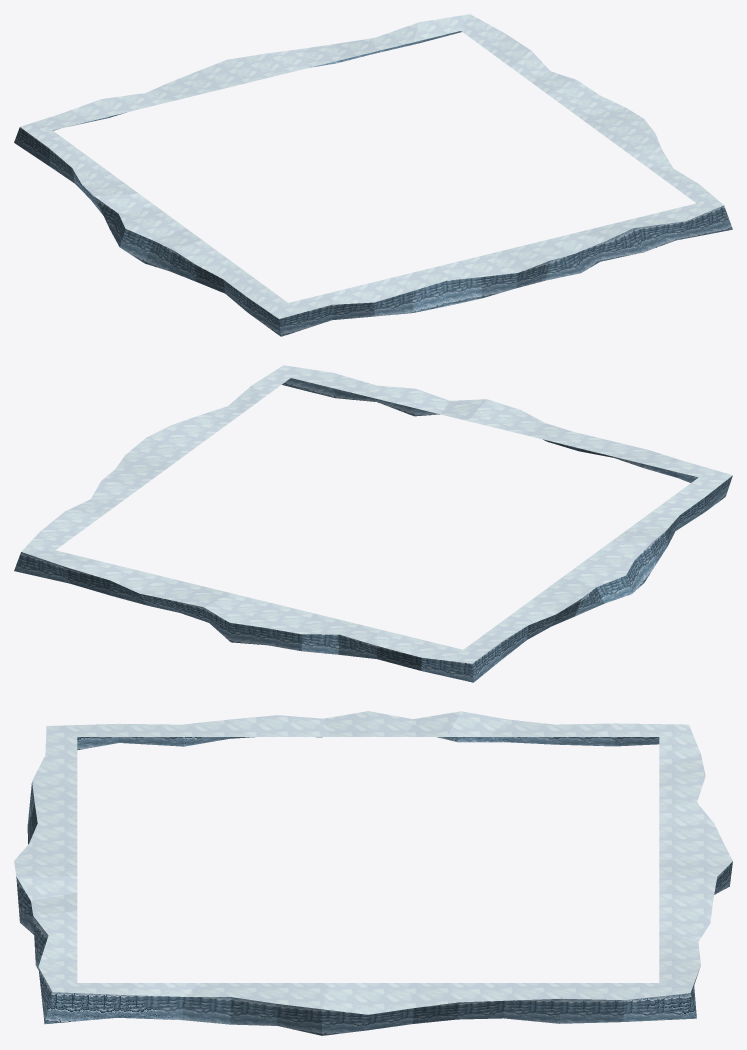
Rendered from entorno_18.glb.
3 renders of one model, top to bottom at view 1: azimuth 30°, elevation 25°; view 2: azimuth 150°, elevation 25°; view 3: azimuth 270°, elevation 25°, orthographic. The views are drawn at different scales.
Visible parts, largest first — view 1: neve_entorno_18; view 2: neve_entorno_18; view 3: neve_entorno_18.
Boxes of the visible parts, x1,y1,x2,y2 form: neve_entorno_18: [14, 14, 732, 336]; neve_entorno_18: [14, 365, 732, 682]; neve_entorno_18: [14, 711, 732, 1035].
Bounding box in the file's own units: 22.6 × 1.07 × 22.49.
2 materials, 2 textured.
